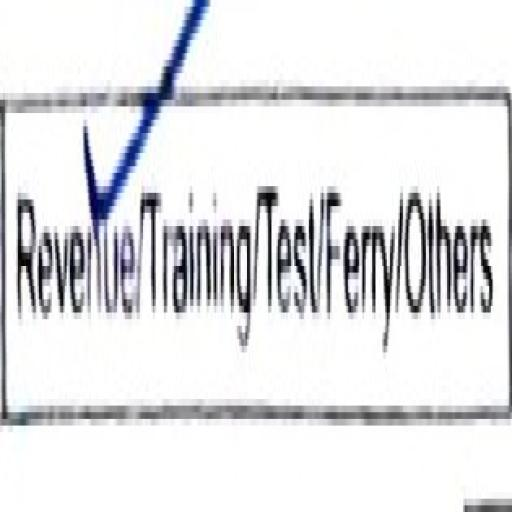check: (3, 0, 141, 465)
